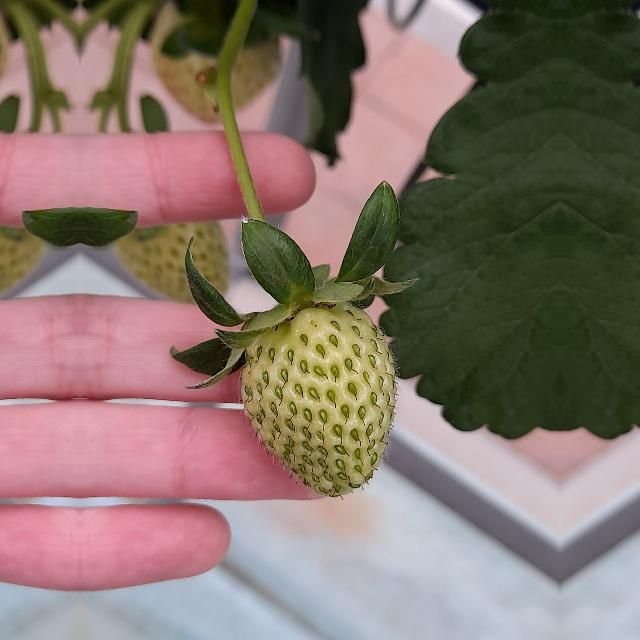Health_25: (240, 301, 396, 497)
